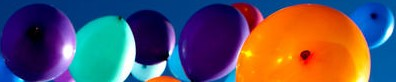Balloon: (239, 4, 371, 82), (1, 4, 76, 82), (179, 4, 249, 82), (71, 14, 135, 82), (127, 9, 176, 64), (355, 4, 395, 43)
